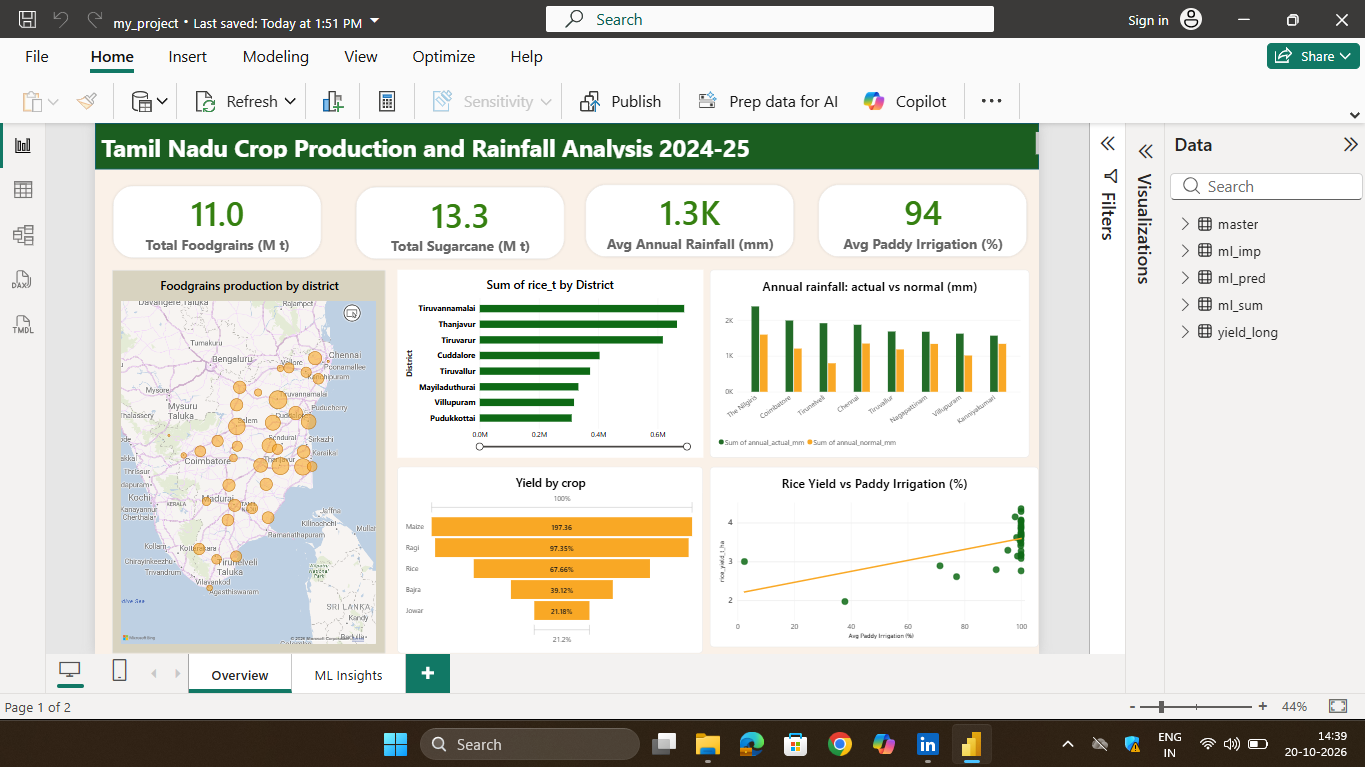

The dashboard page shown, as its layout file describes it:
{"tool":"powerbi","page":{"name":"Overview","canvas":[1920,1080],"ordinal":0},"visuals":[{"type":"shape","box":[0,0,1921.1,94.3],"z":0},{"type":"textbox","box":[0,17.8,1921.1,53.5],"z":1000},{"type":"cardVisual","fields":{"Data":["master.Total Foodgrains (M t)"]},"box":[32.4,123.5,433.3,156.4],"z":2000},{"type":"cardVisual","fields":{"Data":["master.Total Sugarcane (M t)"]},"box":[525.9,124.5,433.3,156.4],"z":3000},{"type":"cardVisual","fields":{"Data":["master.Avg Annual Rainfall (mm)"]},"box":[992.7,121.4,433.3,156.4],"z":4000},{"type":"cardVisual","fields":{"Data":["master.Avg Paddy Irrigation (%)"]},"box":[1467.6,120.6,433.3,156.4],"z":5000},{"type":"map","title":"Foodgrains production by district","fields":{"Category":["master.Location"],"Size":["Sum(master.total_foodgrains_t)"]},"box":[34.2,298.8,557,781.1],"z":6000},{"type":"clusteredBarChart","fields":{"Category":["master.District"],"Y":["Sum(master.rice_t)"]},"box":[616.2,298.8,621.7,382.2],"z":7000},{"type":"clusteredColumnChart","title":"Annual rainfall: actual vs normal (mm)","fields":{"Category":["master.District"],"Y":["Sum(master.annual_actual_mm)","Sum(master.annual_normal_mm)"]},"box":[1251,298.1,649.7,382.2],"z":8000},{"type":"scatterChart","title":"Rice Yield vs Paddy Irrigation (%) ","fields":{"X":["master.Avg Paddy Irrigation (%)"],"Y":["master.rice_yield_t_ha"]},"box":[1251,700.2,669.1,367.2],"z":9000},{"type":"funnel","title":"Yield by crop","fields":{"Category":["yield_long.Crop","yield_long.District"],"Y":["Sum(yield_long.Yield)"]},"box":[616.2,700.2,621.7,379.6],"z":11000}]}

Visuals, with their boxes on the page's 1920x1080 design canvas (x1, y1, x2, y2). These are canvas units, not pixel positions in the 1365x767 screenshot, which may show the page scaled, cropped or inside an application window:
shape: left=0, top=0, right=1921, bottom=94
textbox: left=0, top=18, right=1921, bottom=71
cardVisual - master.Total Foodgrains (M t): left=32, top=124, right=466, bottom=280
cardVisual - master.Total Sugarcane (M t): left=526, top=124, right=959, bottom=281
cardVisual - master.Avg Annual Rainfall (mm): left=993, top=121, right=1426, bottom=278
cardVisual - master.Avg Paddy Irrigation (%): left=1468, top=121, right=1901, bottom=277
"Foodgrains production by district" map: left=34, top=299, right=591, bottom=1080
clusteredBarChart - master.District x Sum(master.rice_t): left=616, top=299, right=1238, bottom=681
"Annual rainfall: actual vs normal (mm)" clusteredColumnChart: left=1251, top=298, right=1901, bottom=680
"Rice Yield vs Paddy Irrigation (%) " scatterChart: left=1251, top=700, right=1920, bottom=1067
"Yield by crop" funnel: left=616, top=700, right=1238, bottom=1080
